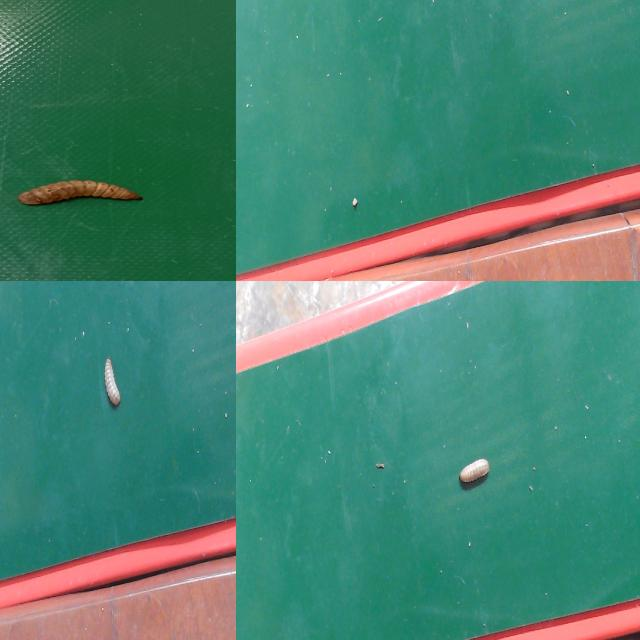Maggot: (17, 179, 143, 209), (101, 359, 122, 410), (460, 460, 489, 485)
